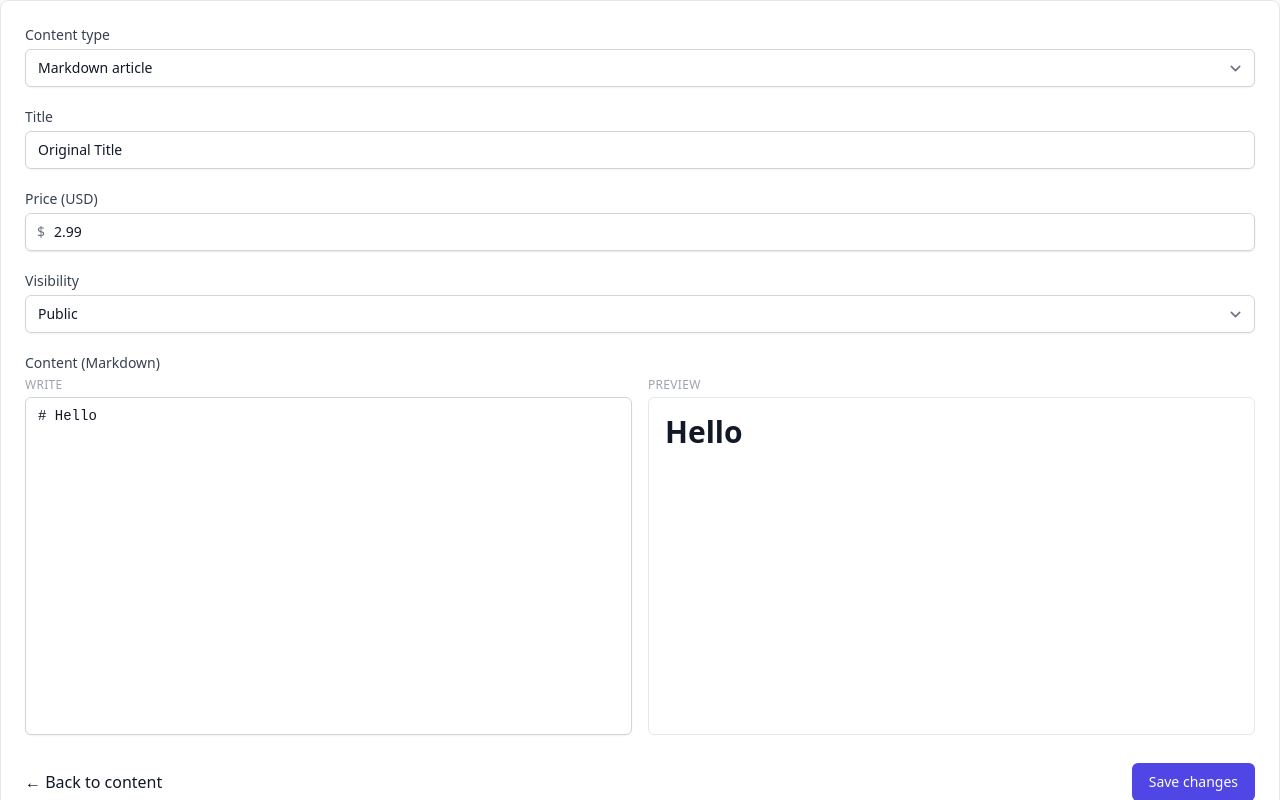
Test: EditContentForm › shows an error message when the API returns an error
Click the button "Save changes".
click(1193, 782)  # box x1=1132 y1=763 x2=1255 y2=799
(page scrolled)
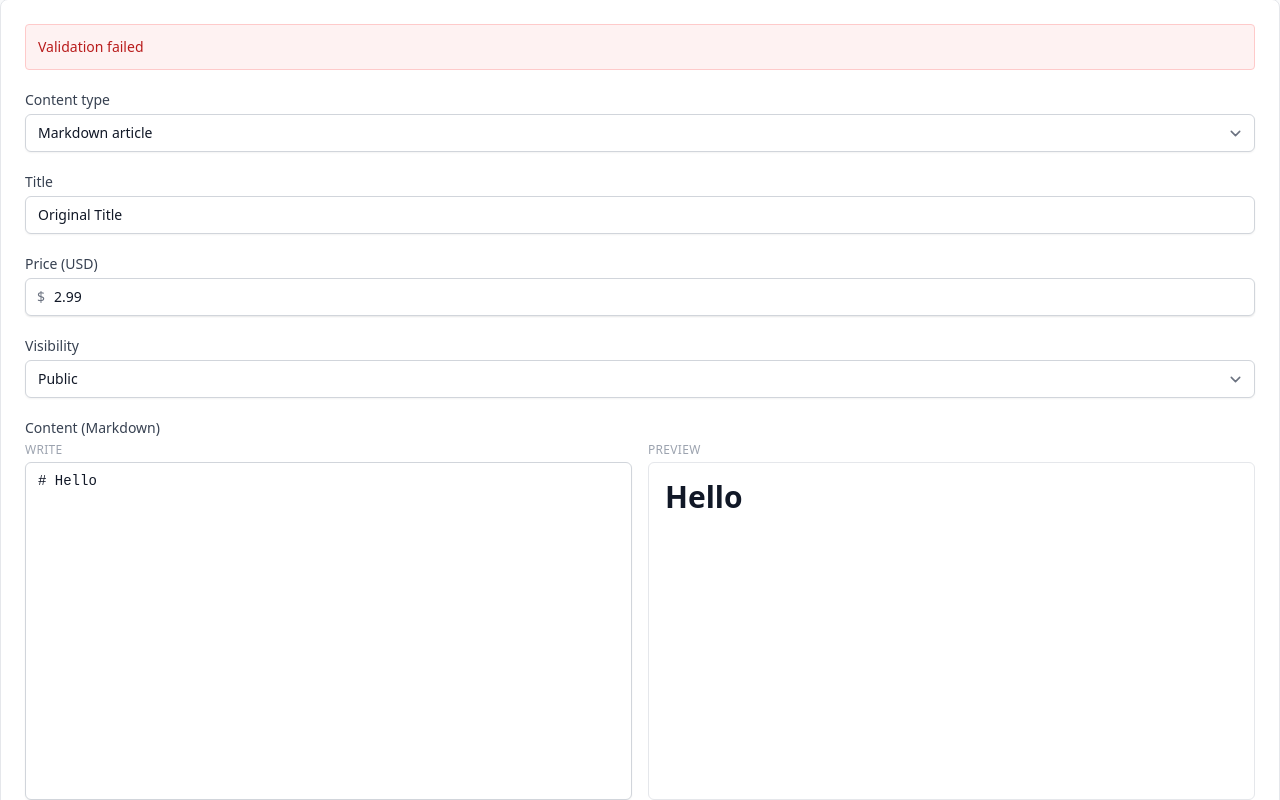
expect the message reads "Validation failed": met, box x1=38 y1=37 x2=144 y2=56
